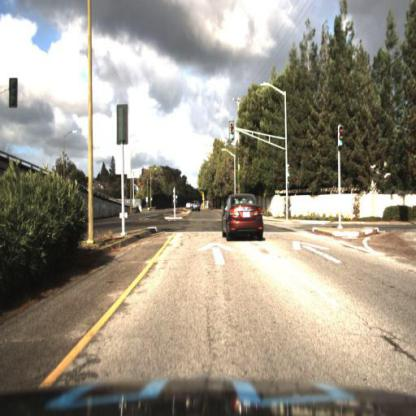car: (221, 190, 267, 244), (190, 199, 204, 215)
trafficLight-Green: (336, 123, 351, 155), (229, 121, 237, 148), (336, 125, 344, 151), (229, 123, 235, 144)
